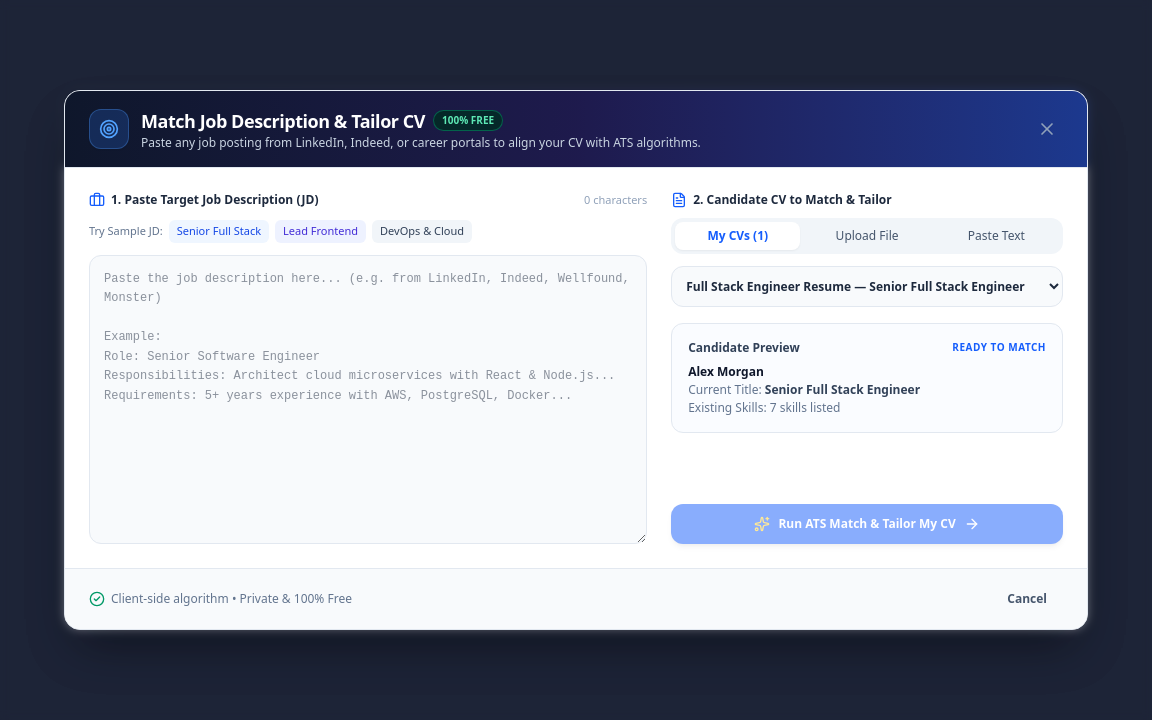
Scenario: JobTailorModal Component › runs analysis and tailoring, advancing to step 2 with score boost
//  Fill JD
Step 1. Click the button "Senior Full Stack" → (219, 232), box [169,220,269,243]
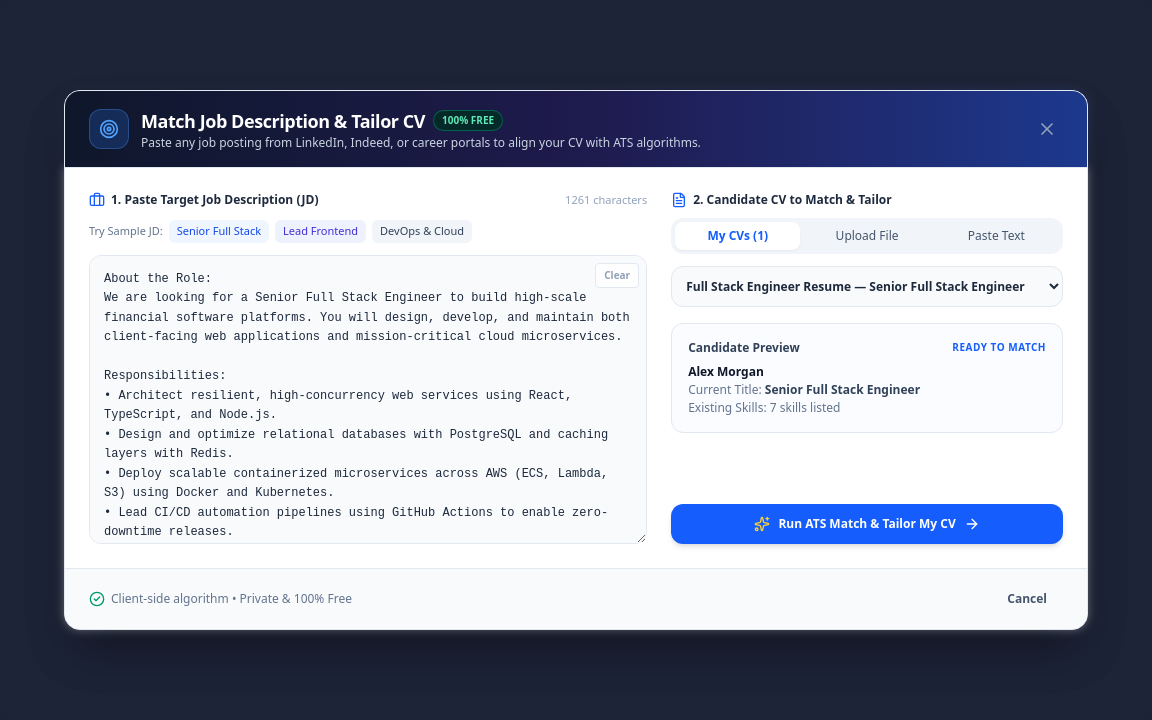
Step 2. Click the button "Run ATS Match & Tailor My CV" → (867, 524), box [671,504,1063,544]
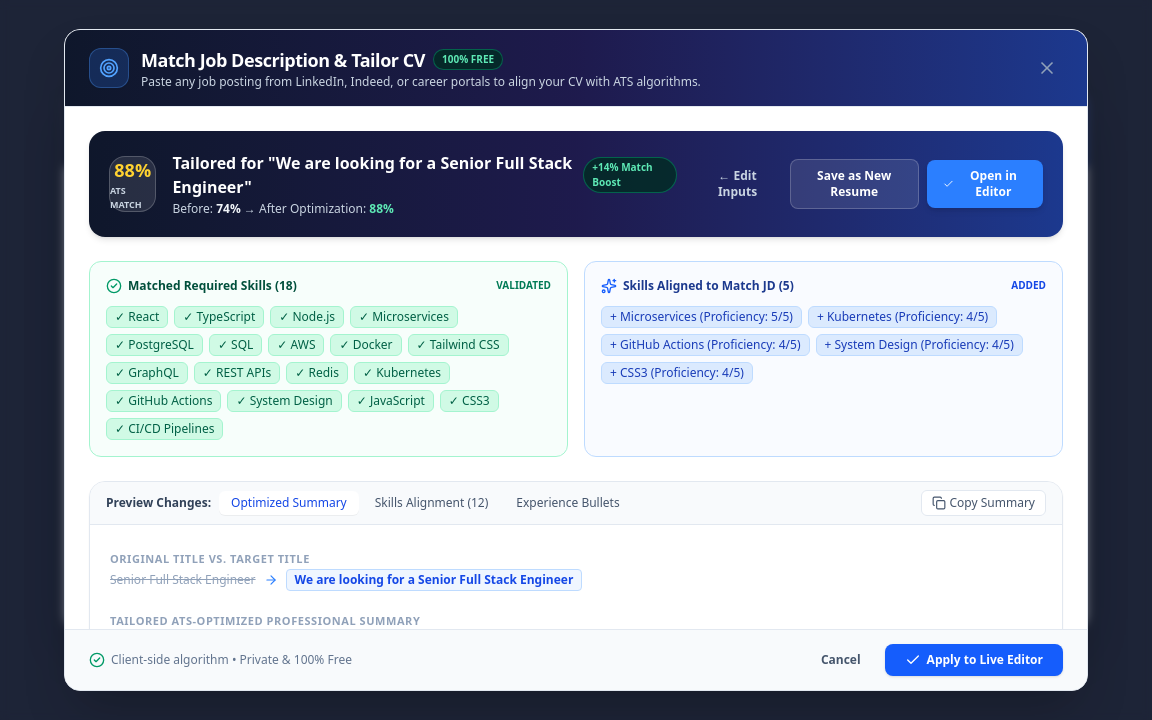
Expected: the text "Match Boost" is shown, [592,160,653,189]
Expected: the text "Matched Required Skills" is shown, [128,277,279,294]
Expected: the text "Skills Aligned to Match JD" is shown, [623,277,783,294]
